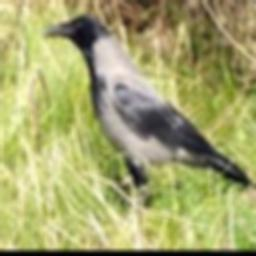Crow: (41, 14, 256, 206)
